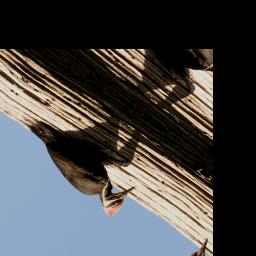Woodpecker: (4, 99, 149, 219)
